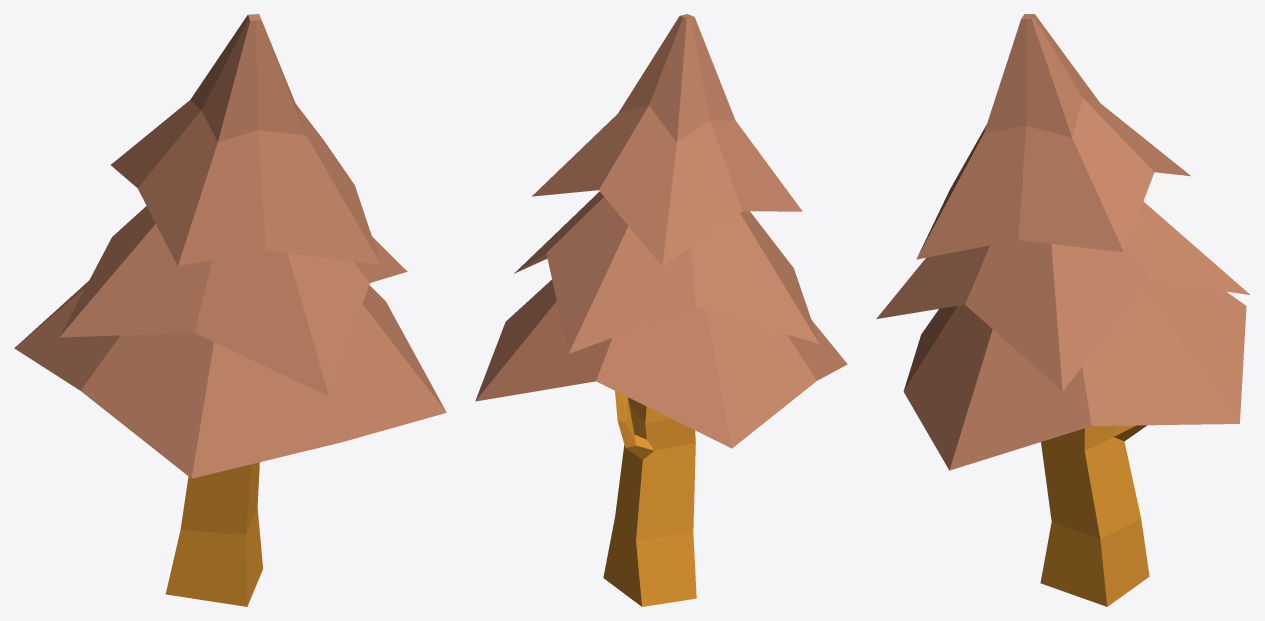
Rendered from pine_tree_1.obj.
The picture shows the model from 3 angles, left to right: view 1: azimuth 30°, elevation 25°; view 2: azimuth 150°, elevation 25°; view 3: azimuth 270°, elevation 25°; orthographic projection. The views are drawn at different scales.
Parts seen in each view (by area): view 1: pine_tree_1; view 2: pine_tree_1; view 3: pine_tree_1.
Boxes of the visible parts, <box> form: pine_tree_1: <box>14,14,446,606</box>; pine_tree_1: <box>475,14,847,606</box>; pine_tree_1: <box>876,14,1250,606</box>.
Size of the model in its own units: 12.86 by 21.43 by 12.82.
